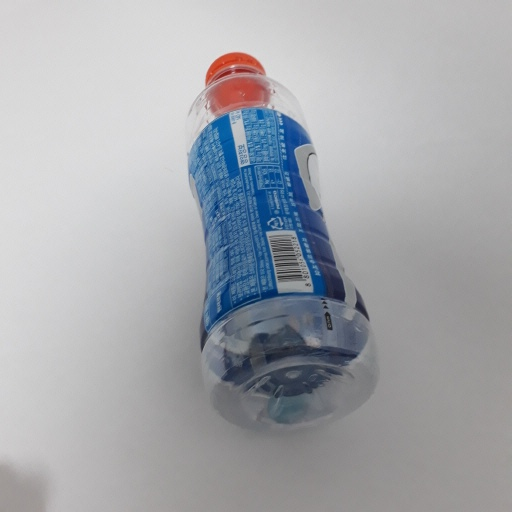Plastic_0: (177, 48, 383, 446)
